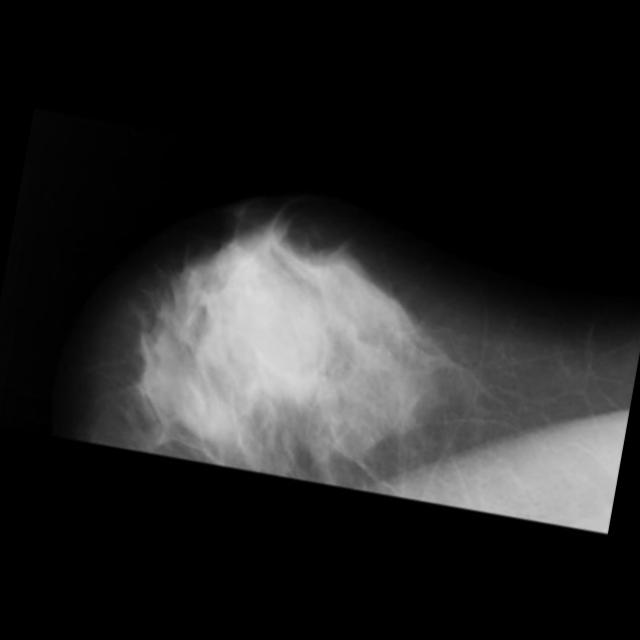CIRC: (121, 182, 407, 468)
